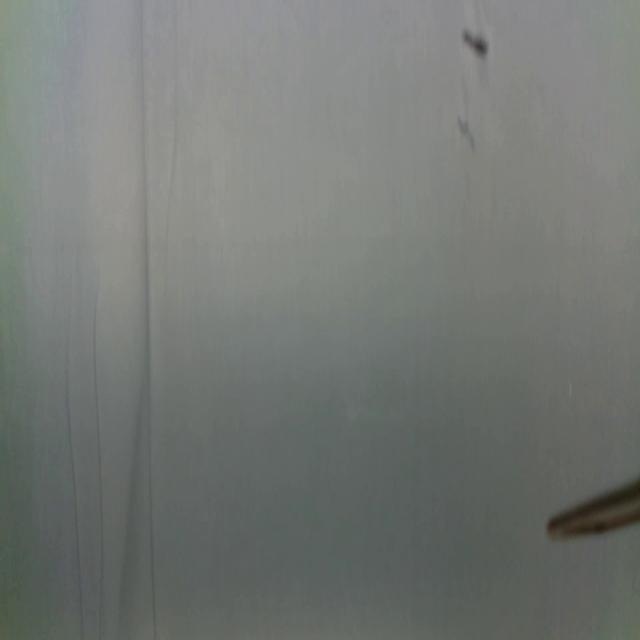crease: (138, 0, 156, 640), (63, 328, 86, 640), (92, 269, 106, 640), (163, 3, 181, 282)
hole: (461, 30, 491, 61)
